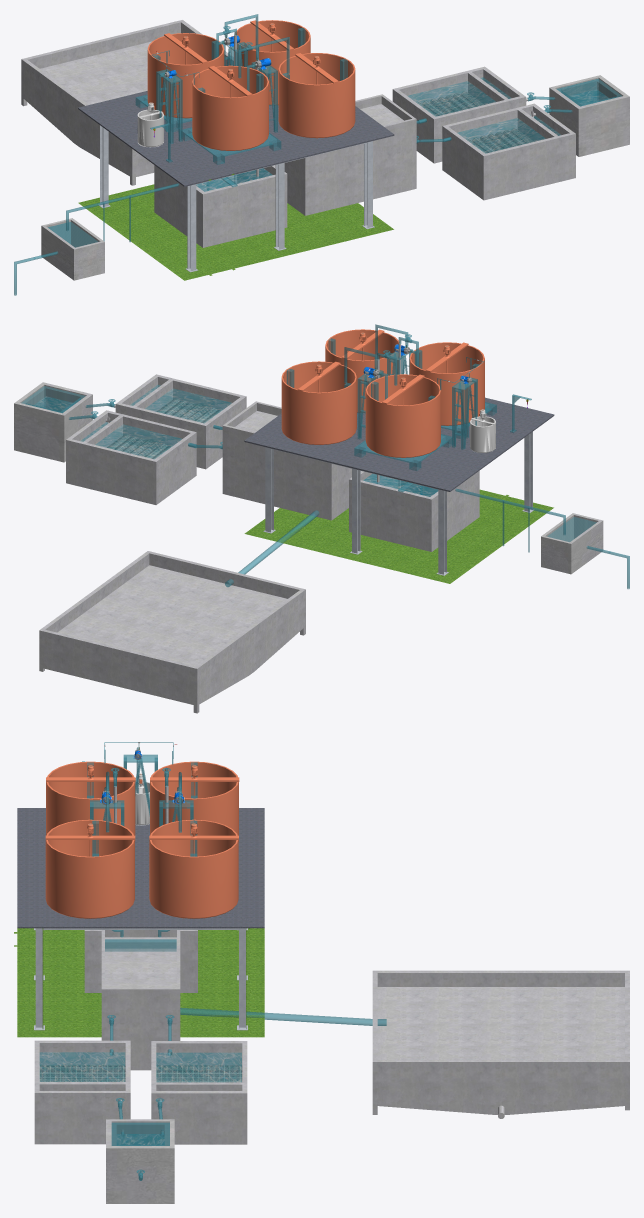
The model's file is STP-version-1.glb.
3 views of the same model, one above another, from view 1: azimuth 30°, elevation 25°; view 2: azimuth 150°, elevation 25°; view 3: azimuth 270°, elevation 25° (orthographic). The views are drawn at different scales.
Parts seen in each view (by area): view 1: _G-Object.120 (Loose Mesh), _(Loose Entity), G-Object.187, G-Object, G-Object.096, _G-Object.127 (Loose Mesh), G-Object.095, _G-Object.097 (Loose Mesh), _G-Object.184 (Loose Mesh), Cube, Cube.001, G-Object.001 (+6 smaller); view 2: G-Object.187, _G-Object.120 (Loose Mesh), _(Loose Entity), G-Object, G-Object.096, _G-Object.184 (Loose Mesh), G-Object.095, _G-Object.097 (Loose Mesh), _G-Object.127 (Loose Mesh), Cube, Cube.001, G-Object.001 (+6 smaller); view 3: G-Object.187, _G-Object.120 (Loose Mesh), G-Object.096, _(Loose Entity), G-Object, G-Object.095, _G-Object.184 (Loose Mesh), _G-Object.127 (Loose Mesh), Cube, _G-Object.097 (Loose Mesh), G-Object.186, G-Object.129 (+3 smaller).
Boxes of the visible parts, bbox=[...] form: _G-Object.120 (Loose Mesh): bbox=[78, 91, 394, 280]; _(Loose Entity): bbox=[14, 14, 621, 295]; G-Object.187: bbox=[21, 20, 233, 185]; G-Object: bbox=[147, 33, 268, 150]; G-Object.096: bbox=[235, 20, 355, 138]; _G-Object.127 (Loose Mesh): bbox=[442, 103, 575, 200]; G-Object.095: bbox=[284, 94, 416, 215]; _G-Object.097 (Loose Mesh): bbox=[154, 35, 287, 247]; _G-Object.184 (Loose Mesh): bbox=[392, 66, 528, 163]; Cube: bbox=[549, 75, 629, 156]; Cube.001: bbox=[41, 218, 104, 280]; G-Object.001: bbox=[137, 102, 163, 147]; G-Object.187: bbox=[39, 551, 305, 713]; _G-Object.120 (Loose Mesh): bbox=[244, 397, 554, 583]; _(Loose Entity): bbox=[22, 324, 629, 588]; G-Object: bbox=[365, 342, 484, 457]; G-Object.096: bbox=[281, 329, 399, 444]; _G-Object.184 (Loose Mesh): bbox=[66, 410, 196, 504]; G-Object.095: bbox=[222, 401, 351, 520]; _G-Object.097 (Loose Mesh): bbox=[349, 343, 479, 551]; _G-Object.127 (Loose Mesh): bbox=[114, 374, 246, 469]; Cube: bbox=[14, 382, 92, 462]; Cube.001: bbox=[541, 513, 603, 574]; G-Object.001: bbox=[470, 409, 495, 452]; G-Object.187: bbox=[372, 970, 629, 1118]; _G-Object.120 (Loose Mesh): bbox=[14, 808, 264, 1037]; G-Object.096: bbox=[45, 819, 238, 918]; _(Loose Entity): bbox=[40, 742, 386, 1180]; G-Object: bbox=[46, 761, 239, 841]; G-Object.095: bbox=[101, 930, 180, 1070]; _G-Object.184 (Loose Mesh): bbox=[151, 1041, 247, 1144]; _G-Object.127 (Loose Mesh): bbox=[34, 1040, 130, 1144]; Cube: bbox=[106, 1119, 174, 1203]; _G-Object.097 (Loose Mesh): bbox=[84, 786, 197, 992]; G-Object.186: bbox=[156, 1065, 242, 1082]; G-Object.129: bbox=[39, 1065, 125, 1081].
Bounding box in the file's own units: 24.2 × 8.28 × 17.94.
Materials: 38 (9 with a texture image).
